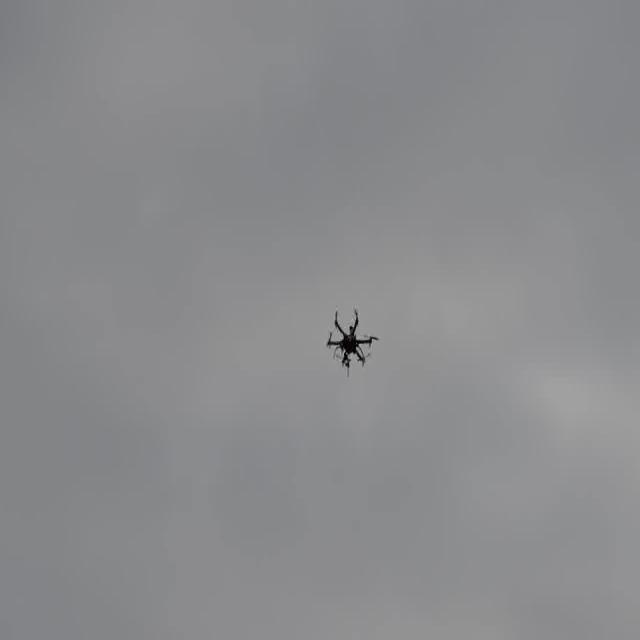drone: (325, 306, 378, 378)
